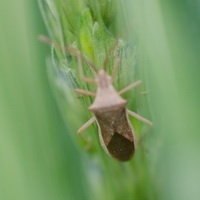insect: (39, 36, 152, 160)
